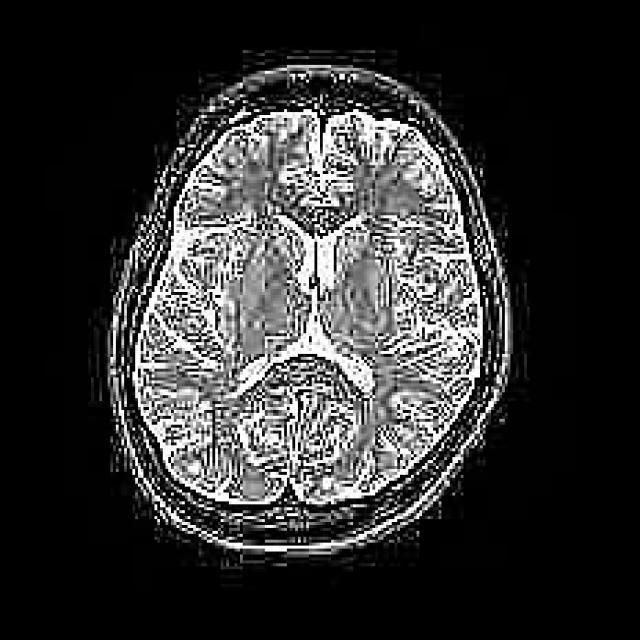notumor: (105, 62, 516, 566)
